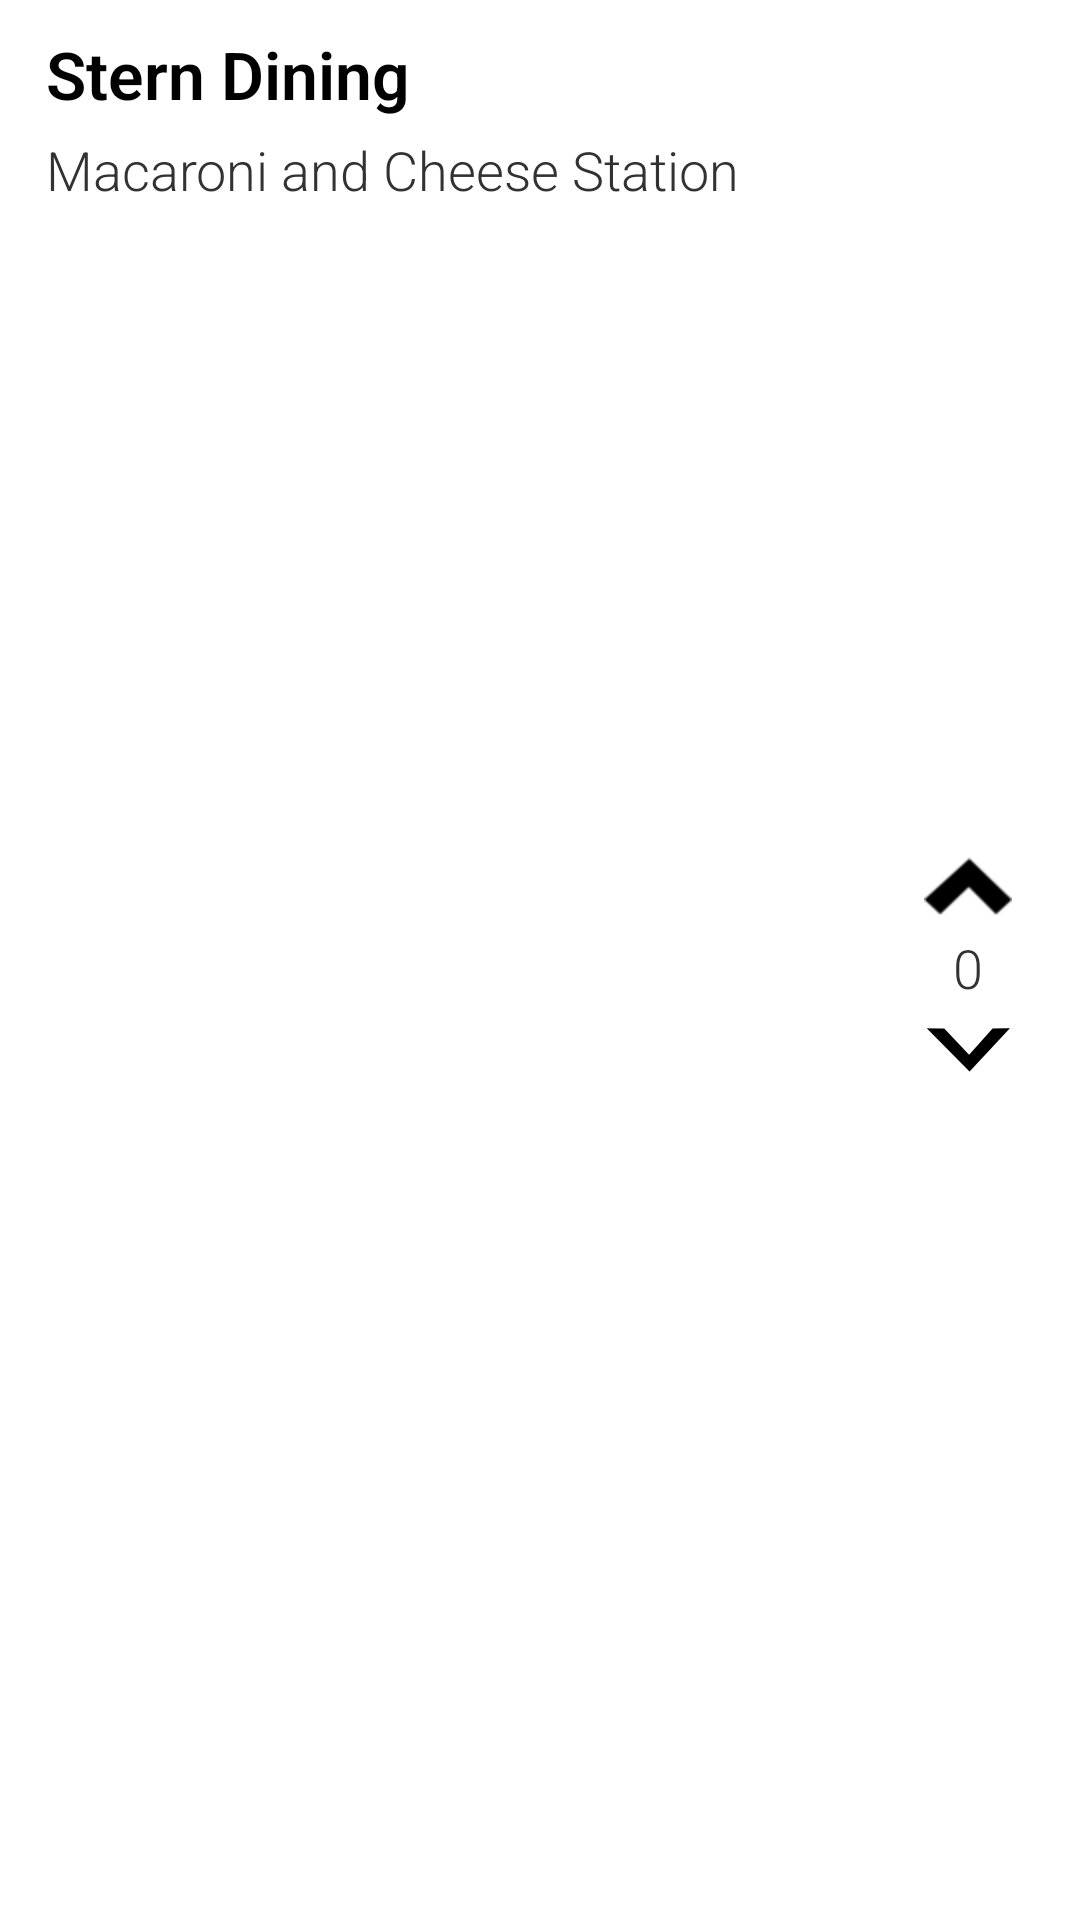

Point at icon controls on the screen. Image size 1080px×1920px, points as point (x, y).
down chevron: point (968, 1050)
up chevron: point (968, 886)
